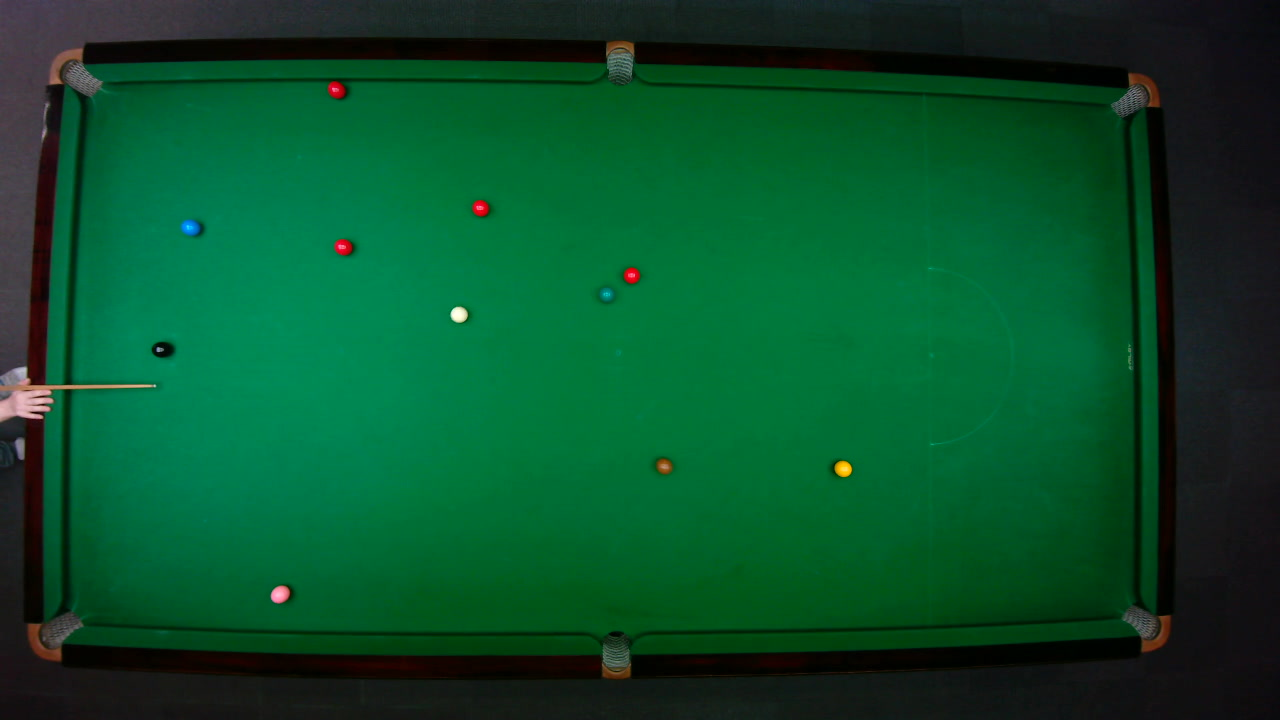bag: (26, 609, 84, 661), (47, 47, 103, 97), (1119, 603, 1171, 651), (1108, 72, 1160, 118), (601, 629, 630, 680), (605, 38, 633, 86)
black: (150, 340, 172, 358)
blue: (179, 218, 201, 236)
brown: (654, 457, 672, 474)
cue: (0, 380, 157, 392)
green: (597, 285, 615, 302)
pink: (269, 583, 290, 604)
red: (326, 79, 346, 99), (332, 237, 354, 255), (470, 198, 489, 216), (622, 266, 640, 284)
white: (448, 304, 469, 323)
yellow: (832, 459, 852, 477)
zone: (926, 266, 1013, 445)
